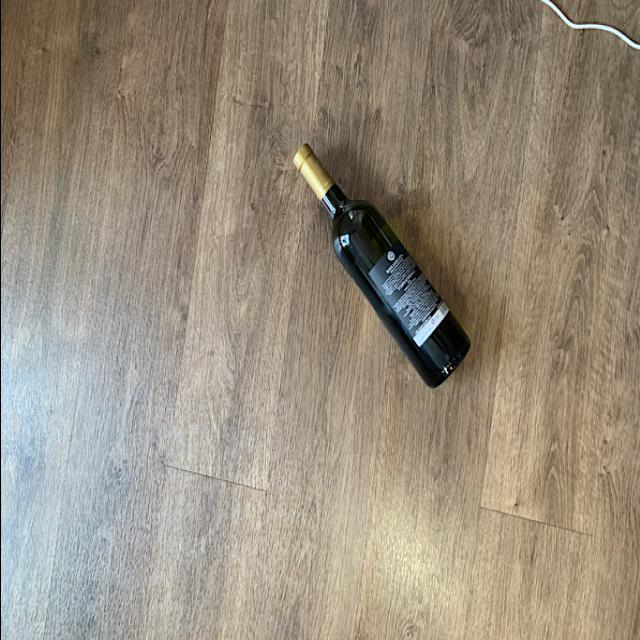Glass Bottle: (290, 139, 470, 391)
